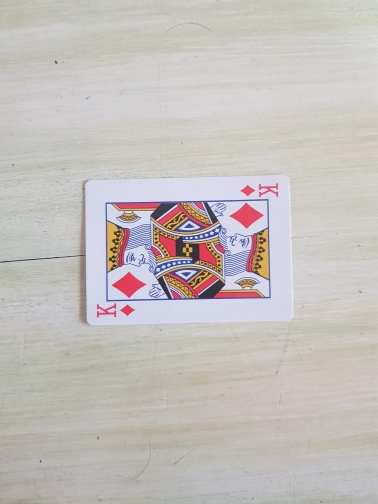king: (83, 175, 294, 326)
